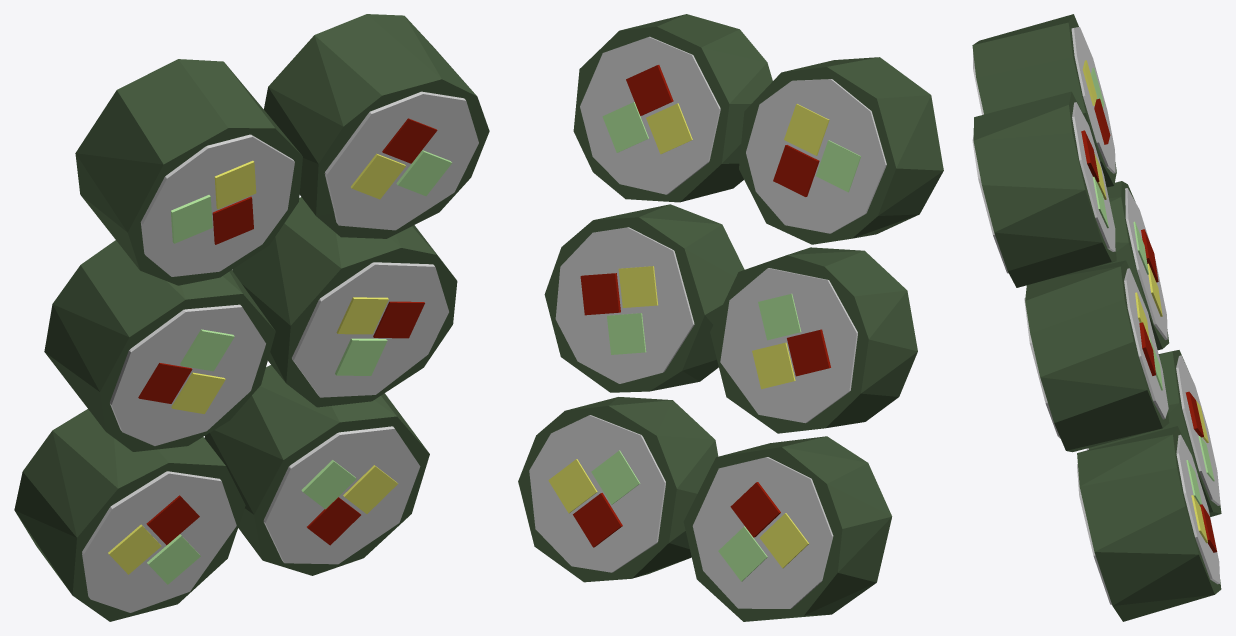
The model's file is food_4_sushi.fbx.
The picture shows the model from 3 angles, left to right: view 1: azimuth 30°, elevation 25°; view 2: azimuth 150°, elevation 25°; view 3: azimuth 270°, elevation 25°; orthographic projection. The views are drawn at different scales.
Parts seen in each view (by area): view 1: food_sushi; view 2: food_sushi; view 3: food_sushi.
Boxes of the visible parts, x1,y1,x2,y2 form: food_sushi: (14, 14, 489, 621); food_sushi: (518, 14, 943, 621); food_sushi: (972, 14, 1221, 621).
Size of the model in its own units: 73.17 by 113 by 49.83.
